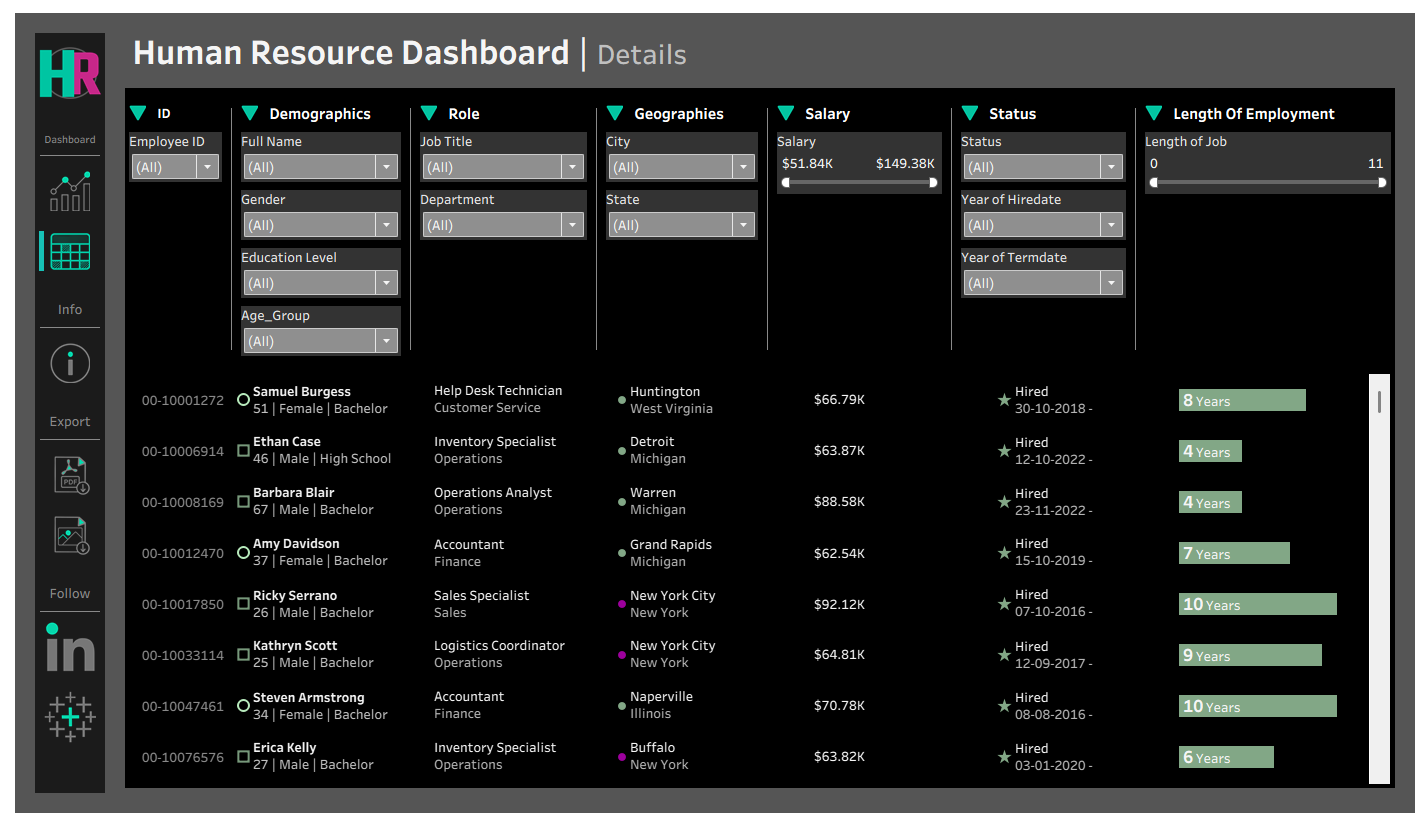

What the dashboard file says about the page in this screenshot:
{"tool":"tableau","page":{"name":"HR | Details","canvas":[1400,800],"ordinal":0},"visuals":[{"type":"text","box":[93,0,1302,370]},{"type":"text","box":[110,0,677,75]},{"type":"blank","box":[787,0,593,75]},{"type":"image","param":"Image/Logo.png","box":[20,20,70,80]},{"type":"dashboard-object","box":[110,85,25,30]},{"type":"text","box":[135,85,76,30]},{"type":"blank","box":[211,85,11,262]},{"type":"dashboard-object","box":[222,85,25,30]},{"type":"text","box":[247,85,143,30]},{"type":"blank","box":[390,85,11,262]},{"type":"dashboard-object","box":[401,85,25,30]},{"type":"text","box":[426,85,148,30]},{"type":"blank","box":[576,85,11,262]},{"type":"dashboard-object","box":[587,85,25,30]},{"type":"text","box":[612,85,135,30]},{"type":"blank","box":[747,85,11,262]},{"type":"dashboard-object","box":[758,85,25,30]},{"type":"text","box":[783,85,148,30]},{"type":"blank","box":[931,85,11,262]},{"type":"dashboard-object","box":[941.9,85,25,30]},{"type":"text","box":[966.9,85,148,30]},{"type":"blank","box":[1114.9,85,11,262]},{"type":"dashboard-object","box":[1125.9,85,25,30]},{"type":"text","box":[1150.9,85,229.1,30]},{"type":"blank","box":[20,100,70,15]},{"type":"text","box":[20,115,70,22]},{"type":"filter","title":"List Of Employees","param":"[federated.13rxjmy1jcvkc51ezlxlq1k7a8bt].[none:Employee_ID:nk]","box":[110,115,101,58]},{"type":"filter","title":"List Of Employees","param":"[federated.13rxjmy1jcvkc51ezlxlq1k7a8bt].[none:Calculation_0516786419539971:nk]","box":[222,115,168,58]},{"type":"filter","title":"List Of Employees","param":"[federated.13rxjmy1jcvkc51ezlxlq1k7a8bt].[none:Job Title:nk]","box":[401,115,175,58]},{"type":"filter","title":"List Of Employees","param":"[federated.13rxjmy1jcvkc51ezlxlq1k7a8bt].[none:City:nk]","box":[587,115,160,58]},{"type":"filter","title":"List Of Employees","param":"[federated.13rxjmy1jcvkc51ezlxlq1k7a8bt].[sum:Salary:qk]","box":[758,115,173,70]},{"type":"filter","title":"List Of Employees","param":"[federated.13rxjmy1jcvkc51ezlxlq1k7a8bt].[none:Calculation_0311727184019462:nk]","box":[941.9,115,173,58]},{"type":"filter","title":"List Of Employees","param":"[federated.13rxjmy1jcvkc51ezlxlq1k7a8bt].[sum:Calculation_0516786424557572:qk]","box":[1125.9,115,254.1,70]},{"type":"blank","box":[20,137,70,11]},{"type":"dashboard-object","box":[20,148,70,60]},{"type":"filter","title":"List Of Employees","param":"[federated.13rxjmy1jcvkc51ezlxlq1k7a8bt].[none:Gender:nk]","box":[222,173,168,58]},{"type":"filter","title":"List Of Employees","param":"[federated.13rxjmy1jcvkc51ezlxlq1k7a8bt].[none:Department:nk]","box":[401,173,175,58]},{"type":"filter","title":"List Of Employees","param":"[federated.13rxjmy1jcvkc51ezlxlq1k7a8bt].[none:State:nk]","box":[587,173,160,58]},{"type":"filter","title":"List Of Employees","param":"[federated.13rxjmy1jcvkc51ezlxlq1k7a8bt].[yr:Hiredate:ok]","box":[941.9,173,173,58]},{"type":"dashboard-object","box":[20,208,70,60]},{"type":"blank","box":[24,218,5,40]},{"type":"filter","title":"List Of Employees","param":"[federated.13rxjmy1jcvkc51ezlxlq1k7a8bt].[none:Education Level:nk]","box":[222,231,168,58]},{"type":"filter","title":"List Of Employees","param":"[federated.13rxjmy1jcvkc51ezlxlq1k7a8bt].[yr:Termdate:ok]","box":[941.9,231,173,58]},{"type":"blank","box":[20,268,70,15]},{"type":"text","box":[20,283,70,26]},{"type":"filter","title":"List Of Employees","param":"[federated.13rxjmy1jcvkc51ezlxlq1k7a8bt].[none:Calculation_0311727143297029:nk]","box":[222,289,168,58]},{"type":"blank","box":[20,309,70,11]},{"type":"dashboard-object","box":[20,320,70,60]},{"type":"worksheet","title":"List Of Employees","mark":"Shape","rows":["Employee_ID"],"cols":["Calculation_0516786419040258","Calculation_0516786419040258","Calculation_0516786419040258","Calculation_0516786419040258","Calculation_0516786419040258","Calculation_0516786424557572"],"box":[110,357,1270,418]},{"type":"blank","box":[20,380,70,15]},{"type":"text","box":[20,395,70,26]},{"type":"blank","box":[20,421,70,11]},{"type":"dashboard-object","box":[20,432,70,60]},{"type":"dashboard-object","box":[20,492,70,60]},{"type":"blank","box":[20,552,70,15]},{"type":"text","box":[20,567,70,26]},{"type":"blank","box":[20,593,70,11]},{"type":"image","param":"Image/contact-linkedin.png","box":[20,604,70,60]},{"type":"blank","box":[20,664,70,10]},{"type":"image","param":"Image/contact-public.png","box":[20,674,70,60]}]}

Visuals, with their boxes on the page's 1400x800 design canvas (x1, y1, x2, y2). These are canvas units, not pixel positions in the 1422x820 screenshot, which may show the page scaled, cropped or inside an application window:
text: <bbox>93, 0, 1395, 370</bbox>
text: <bbox>110, 0, 787, 75</bbox>
blank: <bbox>787, 0, 1380, 75</bbox>
image: <bbox>20, 20, 90, 100</bbox>
dashboard-object: <bbox>110, 85, 135, 115</bbox>
text: <bbox>135, 85, 211, 115</bbox>
blank: <bbox>211, 85, 222, 347</bbox>
dashboard-object: <bbox>222, 85, 247, 115</bbox>
text: <bbox>247, 85, 390, 115</bbox>
blank: <bbox>390, 85, 401, 347</bbox>
dashboard-object: <bbox>401, 85, 426, 115</bbox>
text: <bbox>426, 85, 574, 115</bbox>
blank: <bbox>576, 85, 587, 347</bbox>
dashboard-object: <bbox>587, 85, 612, 115</bbox>
text: <bbox>612, 85, 747, 115</bbox>
blank: <bbox>747, 85, 758, 347</bbox>
dashboard-object: <bbox>758, 85, 783, 115</bbox>
text: <bbox>783, 85, 931, 115</bbox>
blank: <bbox>931, 85, 942, 347</bbox>
dashboard-object: <bbox>942, 85, 967, 115</bbox>
text: <bbox>967, 85, 1115, 115</bbox>
blank: <bbox>1115, 85, 1126, 347</bbox>
dashboard-object: <bbox>1126, 85, 1151, 115</bbox>
text: <bbox>1151, 85, 1380, 115</bbox>
blank: <bbox>20, 100, 90, 115</bbox>
text: <bbox>20, 115, 90, 137</bbox>
"List Of Employees" filter: <bbox>110, 115, 211, 173</bbox>
"List Of Employees" filter: <bbox>222, 115, 390, 173</bbox>
"List Of Employees" filter: <bbox>401, 115, 576, 173</bbox>
"List Of Employees" filter: <bbox>587, 115, 747, 173</bbox>
"List Of Employees" filter: <bbox>758, 115, 931, 185</bbox>
"List Of Employees" filter: <bbox>942, 115, 1115, 173</bbox>
"List Of Employees" filter: <bbox>1126, 115, 1380, 185</bbox>
blank: <bbox>20, 137, 90, 148</bbox>
dashboard-object: <bbox>20, 148, 90, 208</bbox>
"List Of Employees" filter: <bbox>222, 173, 390, 231</bbox>
"List Of Employees" filter: <bbox>401, 173, 576, 231</bbox>
"List Of Employees" filter: <bbox>587, 173, 747, 231</bbox>
"List Of Employees" filter: <bbox>942, 173, 1115, 231</bbox>
dashboard-object: <bbox>20, 208, 90, 268</bbox>
blank: <bbox>24, 218, 29, 258</bbox>
"List Of Employees" filter: <bbox>222, 231, 390, 289</bbox>
"List Of Employees" filter: <bbox>942, 231, 1115, 289</bbox>
blank: <bbox>20, 268, 90, 283</bbox>
text: <bbox>20, 283, 90, 309</bbox>
"List Of Employees" filter: <bbox>222, 289, 390, 347</bbox>
blank: <bbox>20, 309, 90, 320</bbox>
dashboard-object: <bbox>20, 320, 90, 380</bbox>
"List Of Employees" worksheet (Shape marks): <bbox>110, 357, 1380, 775</bbox>
blank: <bbox>20, 380, 90, 395</bbox>
text: <bbox>20, 395, 90, 421</bbox>
blank: <bbox>20, 421, 90, 432</bbox>
dashboard-object: <bbox>20, 432, 90, 492</bbox>
dashboard-object: <bbox>20, 492, 90, 552</bbox>
blank: <bbox>20, 552, 90, 567</bbox>
text: <bbox>20, 567, 90, 593</bbox>
blank: <bbox>20, 593, 90, 604</bbox>
image: <bbox>20, 604, 90, 664</bbox>
blank: <bbox>20, 664, 90, 674</bbox>
image: <bbox>20, 674, 90, 734</bbox>
